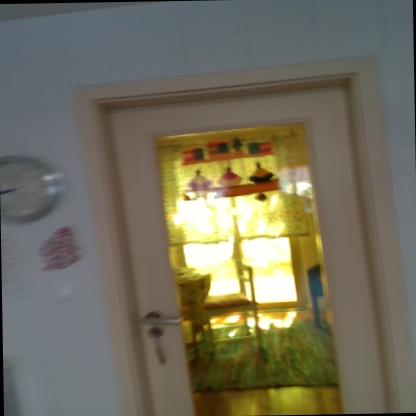closed: (76, 55, 386, 406)
